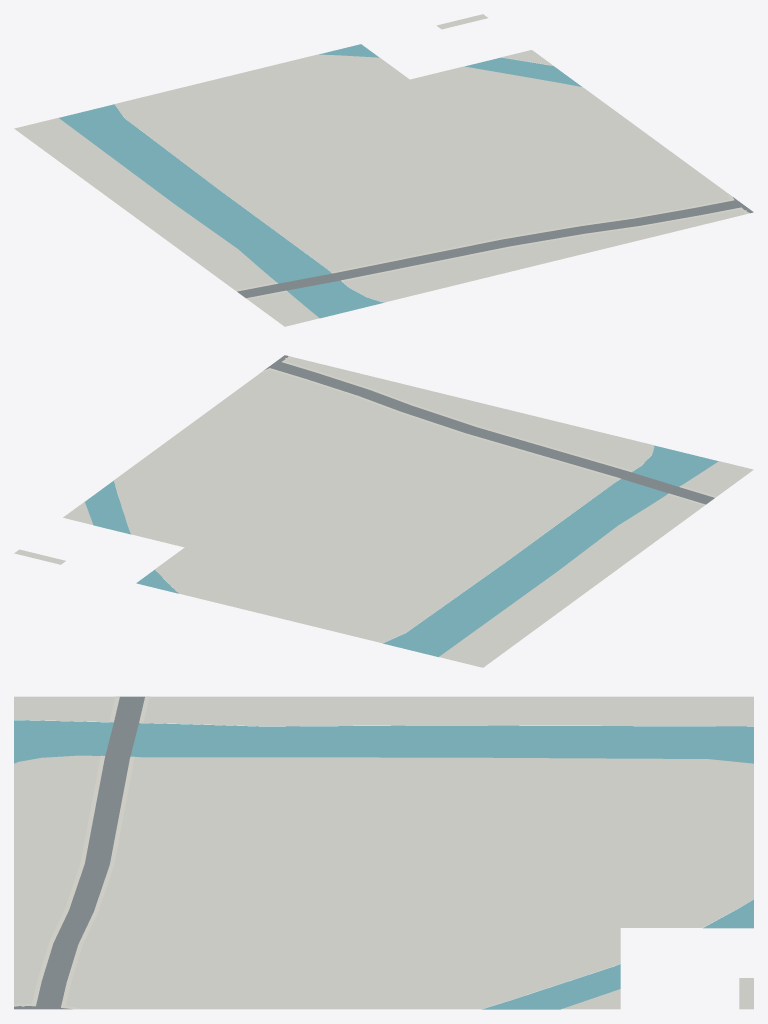
The picture shows the model from 3 angles, top to bottom: view 1: azimuth 30°, elevation 25°; view 2: azimuth 150°, elevation 25°; view 3: azimuth 270°, elevation 25°; orthographic projection. The views are drawn at different scales.
Parts seen in each view (by area): view 1: city; view 2: city; view 3: city.
Part boxes in pixels (x1,y1,x2,y2): city: (14, 14, 753, 326); city: (14, 355, 753, 667); city: (14, 696, 753, 1009).
Size of the model in its own units: 500 by 0.4 by 500.
